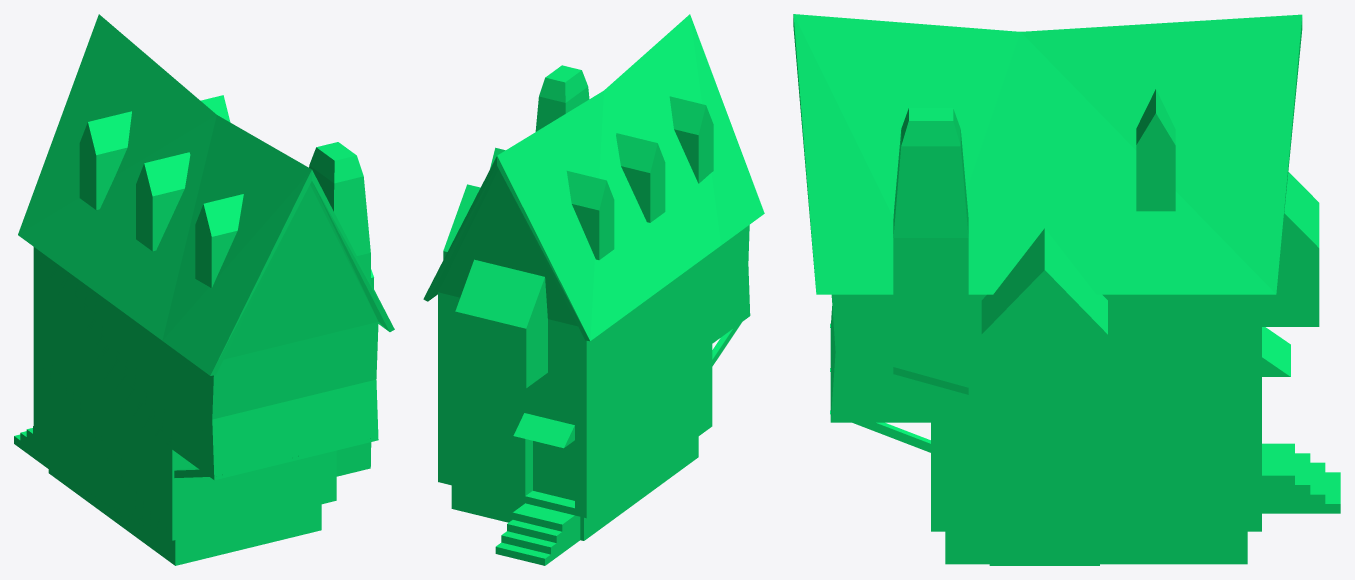
The model's file is Building10_Collision.FBX.
3 views of the same model, side by side, from view 1: azimuth 30°, elevation 25°; view 2: azimuth 150°, elevation 25°; view 3: azimuth 270°, elevation 25° (orthographic). The views are drawn at different scales.
Parts seen in each view (by area): view 1: Building10; view 2: Building10; view 3: Building10.
Part boxes in pixels (<box>): Building10: <box>14,14,394,565</box>; Building10: <box>423,14,764,565</box>; Building10: <box>793,14,1340,565</box>.
Bounding box in the file's own units: 9.89 × 17.24 × 16.83.
